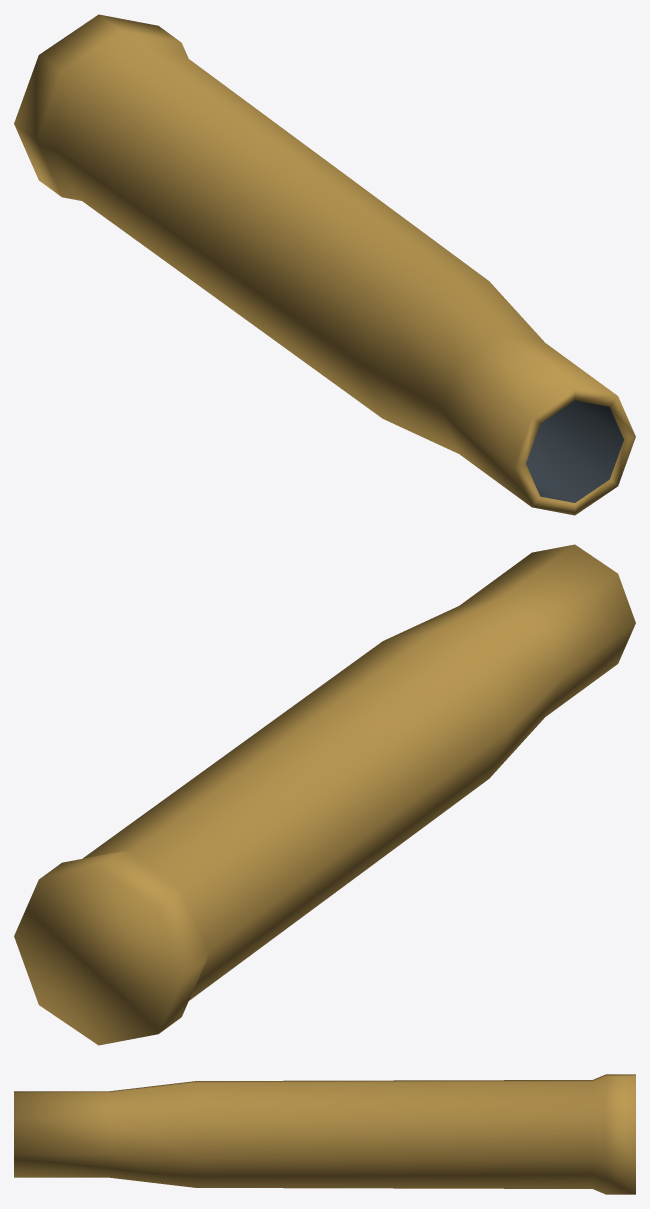
Rendered from needle_50_case_game.glb.
3 renders of one model, top to bottom at view 1: azimuth 30°, elevation 25°; view 2: azimuth 150°, elevation 25°; view 3: azimuth 270°, elevation 25°, orthographic. The views are drawn at different scales.
Parts seen in each view (by area): view 1: AMMO_MESH.014; view 2: AMMO_MESH.014; view 3: AMMO_MESH.014.
Part boxes in pixels (x1,y1,x2,y2): AMMO_MESH.014: (14, 14, 635, 515); AMMO_MESH.014: (14, 544, 635, 1045); AMMO_MESH.014: (14, 1074, 635, 1194).
Bounding box in the file's own units: 0.0204 × 0.0204 × 0.0994.
